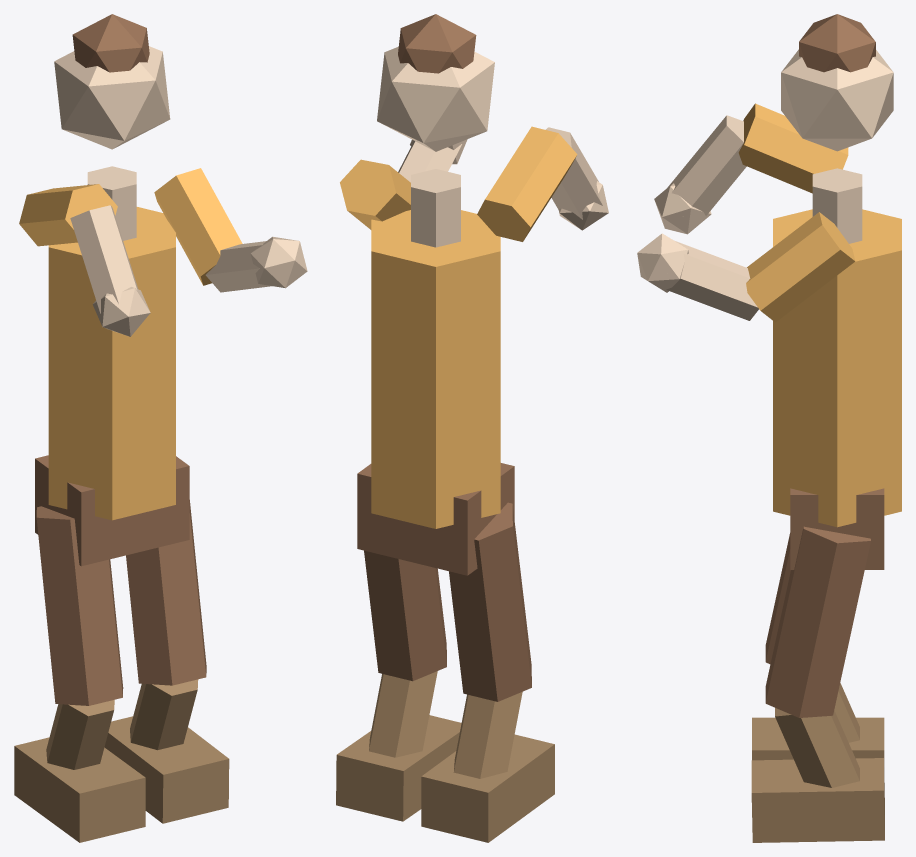
Rendered from pose_attack_1_00.glb.
3 renders of one model, left to right at view 1: azimuth 30°, elevation 25°; view 2: azimuth 150°, elevation 25°; view 3: azimuth 270°, elevation 25°, orthographic.
Visible parts, largest first — view 1: pose; view 2: pose; view 3: pose.
Boxes of the visible parts, x1,y1,x2,y2 form: pose: [14, 14, 307, 842]; pose: [336, 14, 608, 842]; pose: [637, 14, 901, 842].
Size of the model in its own units: 0.4176 by 1.58 by 0.4799.
